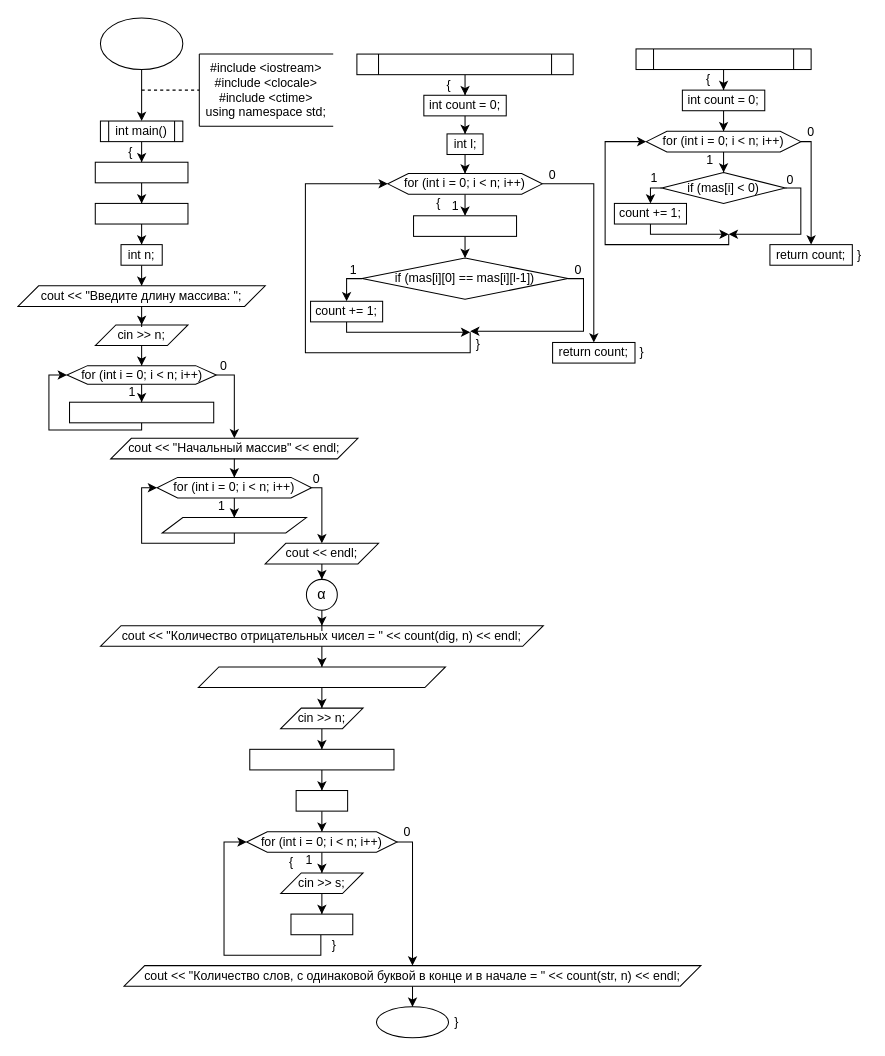
Some shapes in this 885 by 1056 pixel diagram are drawn without their labels. The centre of each missing label's shape, as x and y in pixels:
cout << "Введите количество слов: ";: [321,677]
cout << dig[i] << ' ';: [233,525]
dig[i] = rand() % 100 - 50;: [141,412]
int count(int* mas, int n): [723,59]
int count(string* mas, int n): [464,64]
l = mas[i].size();: [465,225]
return 0;: [412,1022]
setlocale(0, "");: [141,172]
srand(time(0));: [141,213]
str[i] = s;: [321,924]
string s;: [321,800]
string* str = new string[n];: [321,759]
Начало: [141,43]
